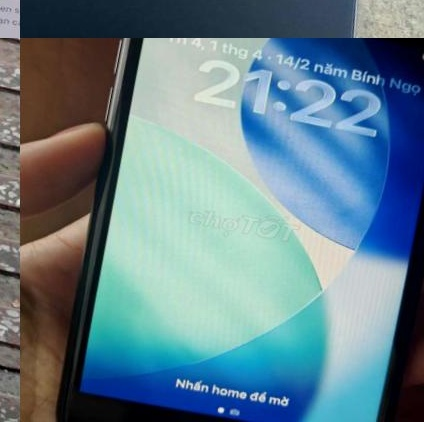scratch: (28, 38, 424, 422)
